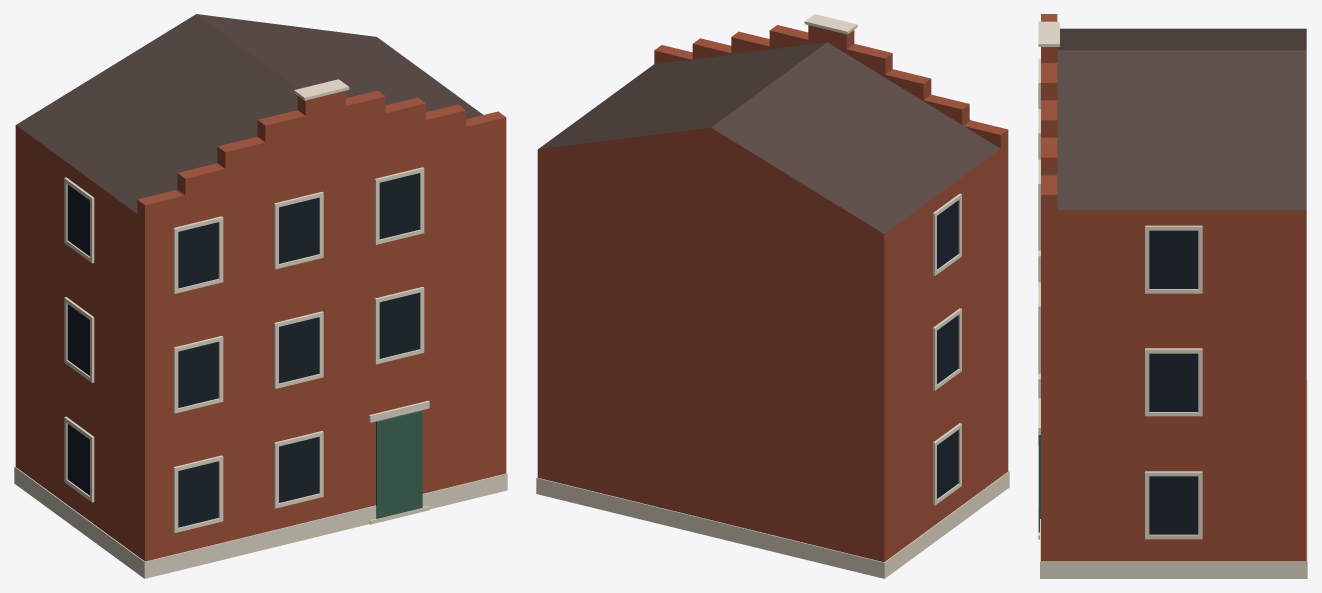
The model's file is brick-stepped.glb.
3 renders of one model, left to right at view 1: azimuth 30°, elevation 25°; view 2: azimuth 150°, elevation 25°; view 3: azimuth 270°, elevation 25°, orthographic. The views are drawn at different scales.
Visible parts, largest first — view 1: Brick, Roof, Window, Trim, Door; view 2: Brick, Roof, Trim, Window; view 3: Brick, Roof, Trim, Window.
Part boxes in pixels (<box>): Brick: <box>15,90,506,561</box>; Roof: <box>16,14,482,213</box>; Window: <box>67,173,419,527</box>; Trim: <box>14,79,507,578</box>; Door: <box>376,410,422,518</box>; Brick: <box>537,25,1008,562</box>; Roof: <box>538,42,1000,233</box>; Trim: <box>536,14,1009,578</box>; Window: <box>937,200,958,498</box>; Brick: <box>1041,14,1306,561</box>; Roof: <box>1041,28,1306,209</box>; Trim: <box>1038,21,1307,578</box>; Window: <box>1149,230,1198,534</box>.
Bounding box in the file's own units: 8 × 9.26 × 4.97.
